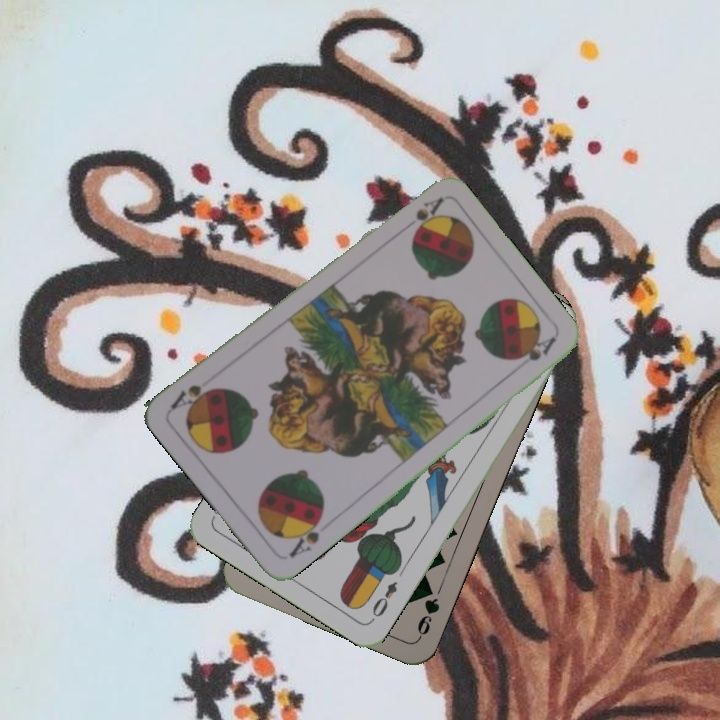EO: (367, 577, 400, 624)
G9: (413, 581, 443, 641)
SA: (284, 510, 325, 561), (411, 193, 446, 229)
